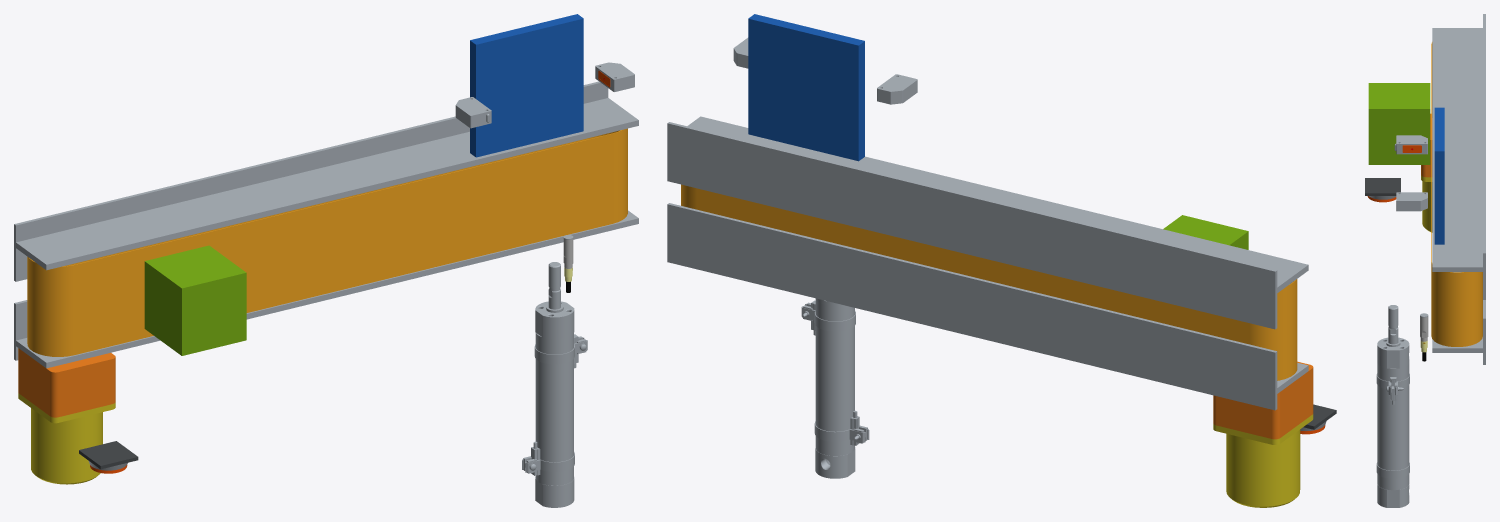
File: sorting_model.gltf
The picture shows the model from 3 angles, left to right: view 1: azimuth 30°, elevation 25°; view 2: azimuth 150°, elevation 25°; view 3: azimuth 270°, elevation 25°; orthographic projection. The views are drawn at different scales.
Visible parts, largest first — view 1: belt, combair_plate003, table, combair_plate002, work, cyclinder_body, motor_body, motor_cover, combair_plate, stand, body002, body001 (+2 smaller); view 2: combair_plate002, combair_plate001, belt, table, combair_plate003, cyclinder_body, motor_cover, motor_body, work, body002, autosensor_belt001, autosensor_belt1; view 3: combair_plate003, cyclinder_body, work, belt, table, combair_plate002, stand, body001, body002, motor_cover, combair_plate, rod (+6 smaller).
Boxes of the visible parts, <box> form: belt: <box>27,128,627,356</box>; combair_plate003: <box>16,98,638,270</box>; table: <box>470,14,583,157</box>; combair_plate002: <box>14,81,608,281</box>; work: <box>144,245,246,355</box>; cyclinder_body: <box>535,301,574,507</box>; motor_body: <box>18,348,115,417</box>; motor_cover: <box>18,393,115,484</box>; combair_plate: <box>16,210,638,368</box>; stand: <box>79,441,138,469</box>; body002: <box>455,97,491,128</box>; body001: <box>595,62,634,91</box>; combair_plate002: <box>667,122,1277,329</box>; combair_plate001: <box>667,203,1277,410</box>; belt: <box>681,184,1297,380</box>; table: <box>748,14,864,161</box>; combair_plate003: <box>687,116,1308,292</box>; cyclinder_body: <box>815,298,855,478</box>; motor_cover: <box>1213,414,1313,507</box>; motor_body: <box>1213,361,1313,439</box>; work: <box>1163,215,1248,249</box>; body002: <box>877,74,917,104</box>; autosensor_belt001: <box>814,416,869,445</box>; autosensor_belt1: <box>801,300,855,331</box>; combair_plate003: <box>1432,28,1482,271</box>; cyclinder_body: <box>1377,337,1409,507</box>; work: <box>1368,83,1430,164</box>; belt: <box>1431,42,1482,346</box>; table: <box>1434,107,1444,244</box>; combair_plate002: <box>1483,14,1485,299</box>; stand: <box>1365,178,1400,195</box>; body001: <box>1396,192,1427,211</box>; body002: <box>1396,135,1427,154</box>; motor_cover: <box>1421,175,1432,232</box>; combair_plate: <box>1432,272,1482,352</box>; rod: <box>1388,305,1398,344</box>.
Size of the model in its own units: 0.55 by 0.401 by 0.1175.
